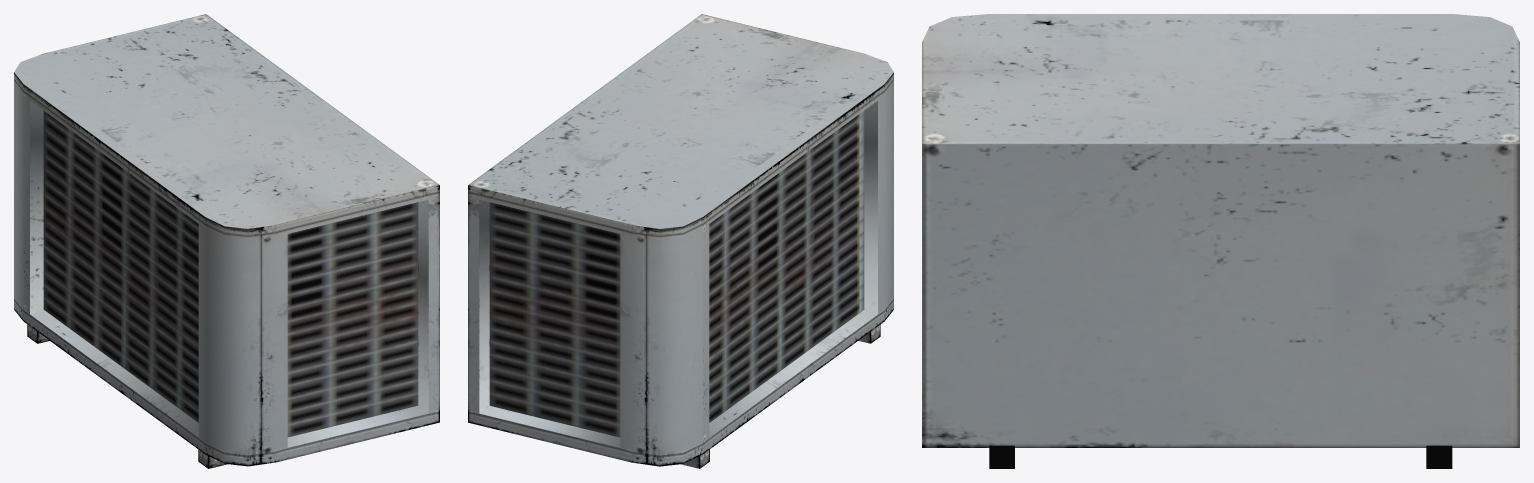
File: SimpleAirVent.glb
The picture shows the model from 3 angles, left to right: view 1: azimuth 30°, elevation 25°; view 2: azimuth 150°, elevation 25°; view 3: azimuth 270°, elevation 25°; orthographic projection. The views are drawn at different scales.
Visible parts, largest first — view 1: SP_TNR_Aircon_2_WT_Aircon_0; view 2: SP_TNR_Aircon_2_WT_Aircon_0; view 3: SP_TNR_Aircon_2_WT_Aircon_0.
Boxes of the visible parts, x1,y1,x2,y2 form: SP_TNR_Aircon_2_WT_Aircon_0: [14, 14, 439, 468]; SP_TNR_Aircon_2_WT_Aircon_0: [468, 14, 893, 468]; SP_TNR_Aircon_2_WT_Aircon_0: [922, 14, 1519, 468].
Bounding box in the file's own units: 0.4739 × 0.545 × 0.9121.
Materials: 1 (1 with a texture image).
